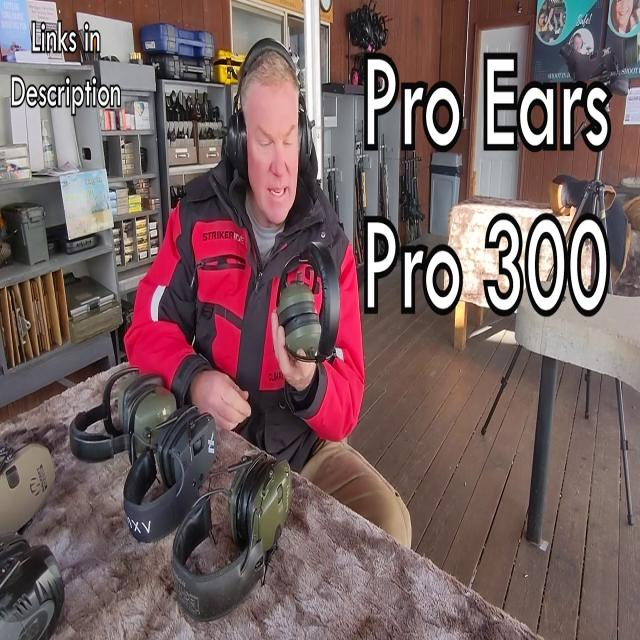earmuff: (225, 104, 252, 180), (296, 104, 317, 172)
